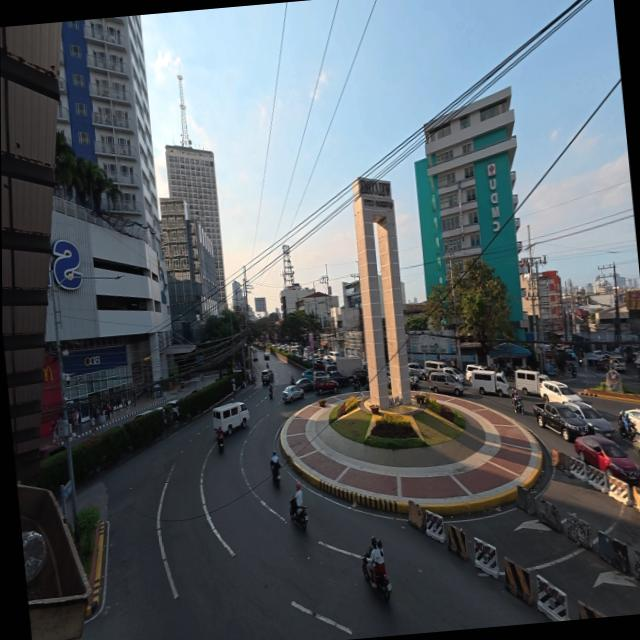car: (572, 430, 640, 492), (307, 368, 335, 394), (280, 383, 304, 403)
vans: (466, 362, 512, 396), (426, 368, 465, 398)
